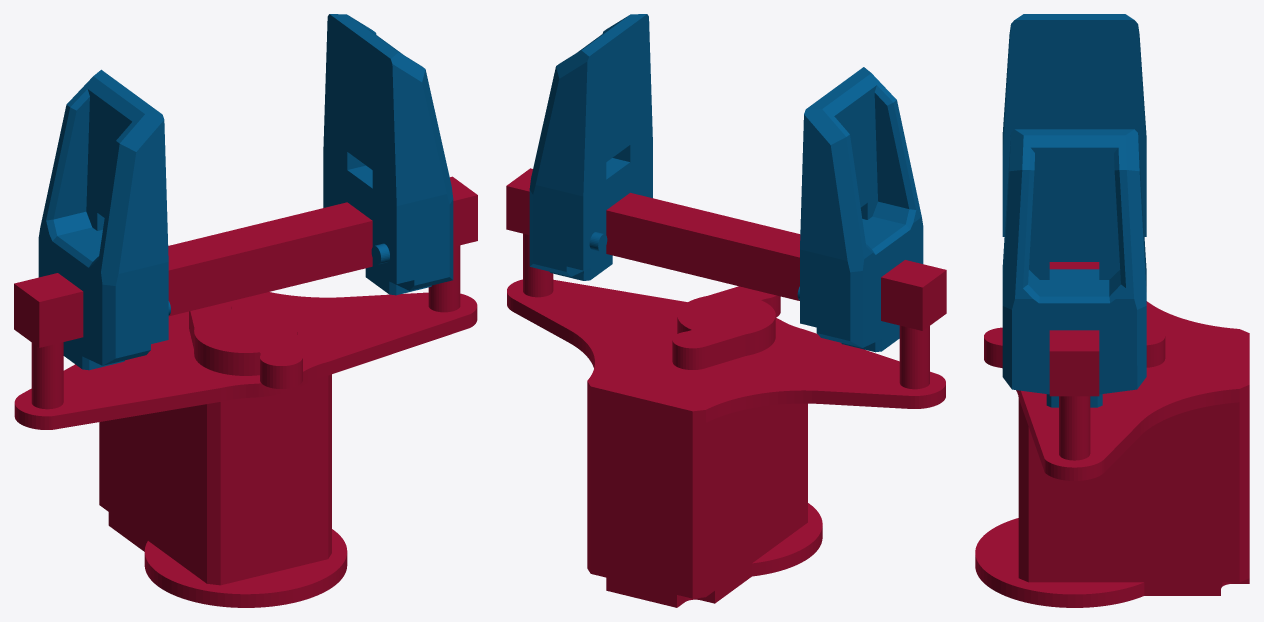
The model's file is trossen-widowx-250-gripper.glb.
The picture shows the model from 3 angles, left to right: view 1: azimuth 30°, elevation 25°; view 2: azimuth 150°, elevation 25°; view 3: azimuth 270°, elevation 25°; orthographic projection. The views are drawn at different scales.
Parts seen in each view (by area): view 1: trossen-widowx-250-gripper; view 2: trossen-widowx-250-gripper; view 3: trossen-widowx-250-gripper.
Boxes of the visible parts, box(x1,y1,x2,y2) form: trossen-widowx-250-gripper: box(14, 14, 477, 607); trossen-widowx-250-gripper: box(506, 14, 946, 607); trossen-widowx-250-gripper: box(975, 14, 1249, 607).
Bounding box in the file's own units: 103 × 109 × 55.24.
